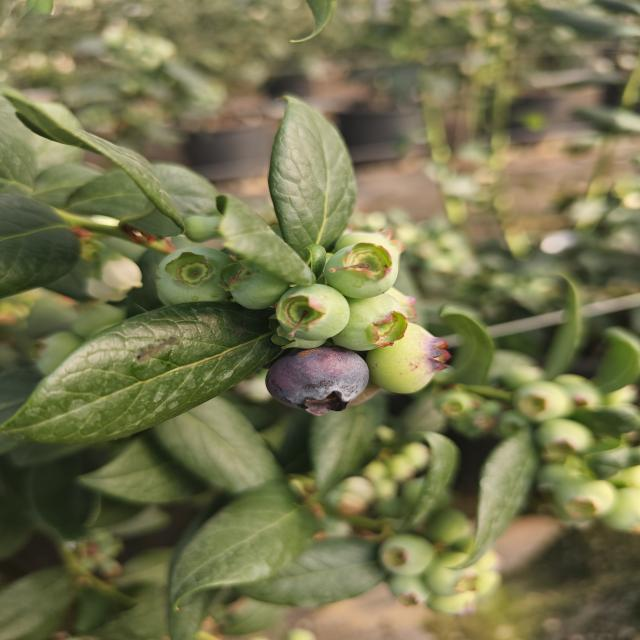ripe: (267, 347, 373, 408)
